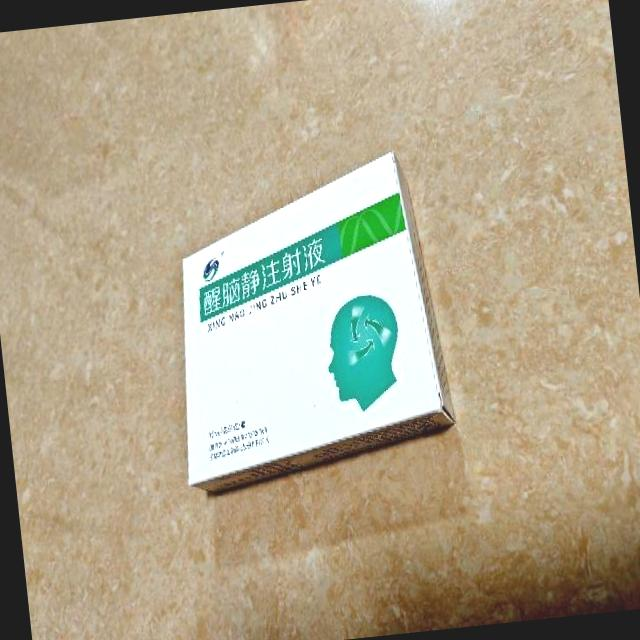box: (157, 147, 460, 498)
